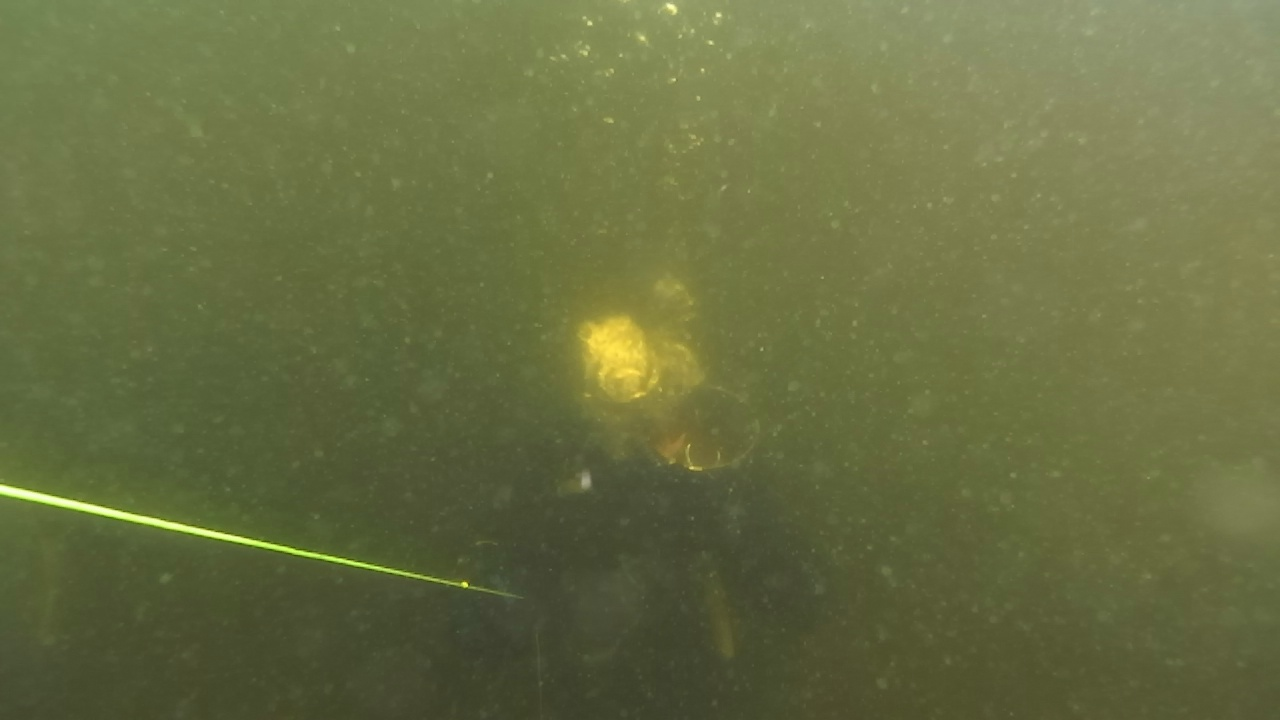Diver: (456, 346, 812, 718)
